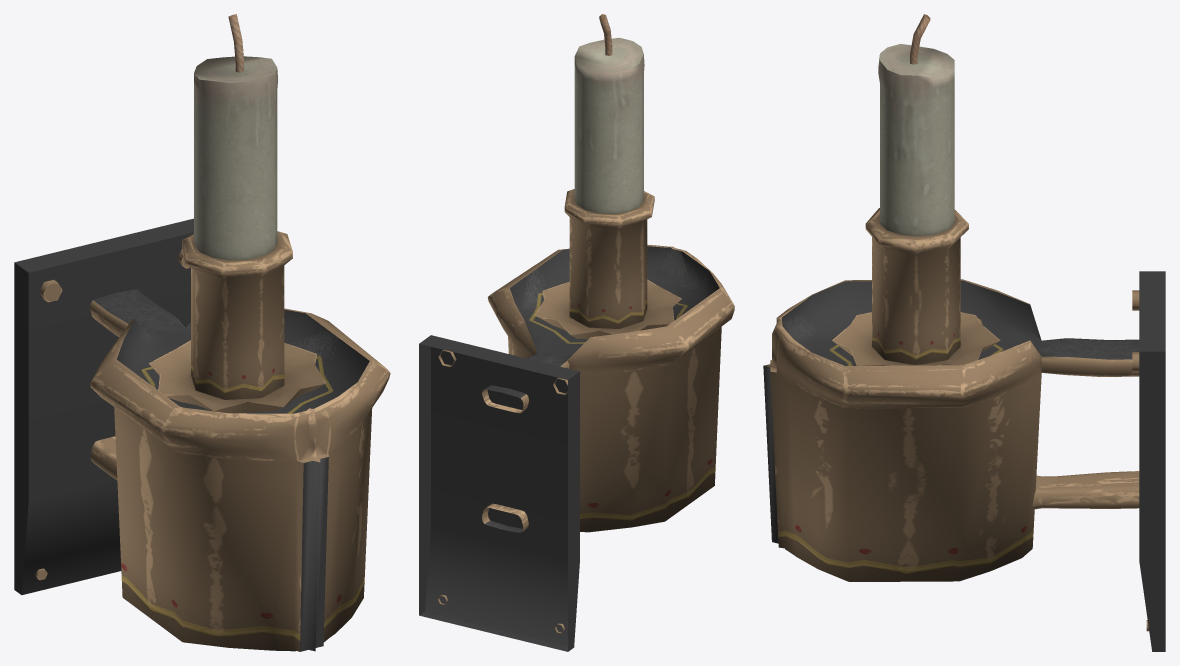
File: Candle Holder Wall.fbx
3 renders of one model, left to right at view 1: azimuth 30°, elevation 25°; view 2: azimuth 150°, elevation 25°; view 3: azimuth 270°, elevation 25°, orthographic. The views are drawn at different scales.
Parts seen in each view (by area): view 1: Cube; view 2: Cube; view 3: Cube.
Part boxes in pixels (bbox=[...]): Cube: bbox=[14, 14, 390, 651]; Cube: bbox=[419, 14, 734, 651]; Cube: bbox=[763, 14, 1165, 651].
Size of the model in its own units: 19.52 by 50.15 by 30.67.
